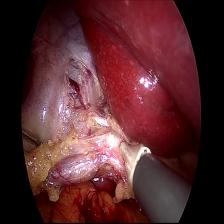Grasper: (22, 125, 47, 163)
Hook: (109, 127, 151, 182)
